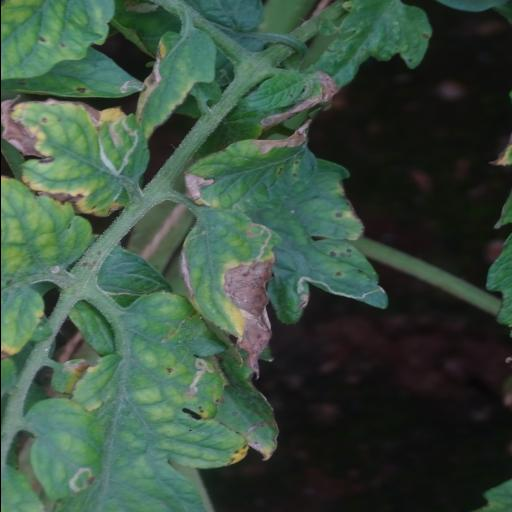disease_tomato: (176, 203, 283, 381), (0, 94, 148, 214)
